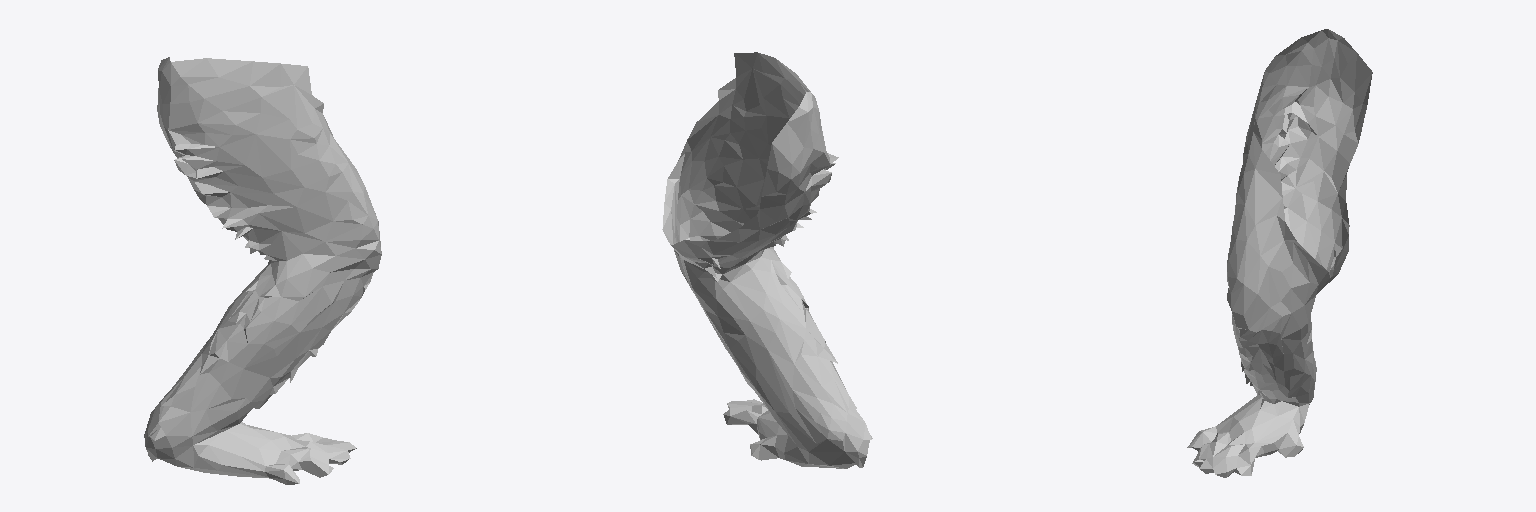
The model's file is pataTasDerMono.obj.
3 renders of one model, left to right at view 1: azimuth 30°, elevation 25°; view 2: azimuth 150°, elevation 25°; view 3: azimuth 270°, elevation 25°, orthographic.
Visible parts, largest first — view 1: pataTasDerMono; view 2: pataTasDerMono; view 3: pataTasDerMono.
Part boxes in pixels (left/top/right/bottom): pataTasDerMono: left=144, top=57, right=381, bottom=484; pataTasDerMono: left=662, top=52, right=872, bottom=468; pataTasDerMono: left=1187, top=29, right=1372, bottom=477.
Bounding box in the file's own units: 0.2765 × 0.4969 × 0.2094.